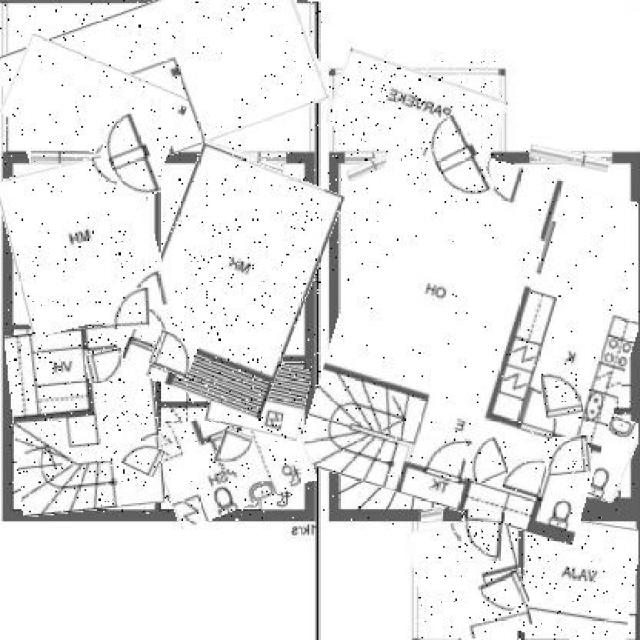door: (428, 116, 484, 204), (105, 114, 157, 203), (462, 511, 504, 560), (151, 332, 197, 374), (479, 574, 526, 615), (542, 371, 582, 418), (465, 440, 506, 483), (545, 437, 589, 475), (215, 429, 251, 471), (123, 438, 162, 474), (114, 289, 149, 329), (86, 349, 126, 382)
window: (346, 143, 432, 172), (203, 146, 286, 169), (529, 148, 609, 169), (31, 151, 111, 166), (420, 509, 443, 522)
zone: (317, 146, 640, 528), (0, 0, 321, 175), (139, 153, 326, 410), (9, 326, 162, 514), (5, 155, 162, 331), (3, 49, 183, 163), (154, 397, 311, 520), (329, 60, 505, 163), (520, 515, 637, 640), (412, 515, 525, 640), (208, 356, 308, 436), (14, 331, 89, 409), (580, 412, 637, 502), (449, 483, 509, 511)
